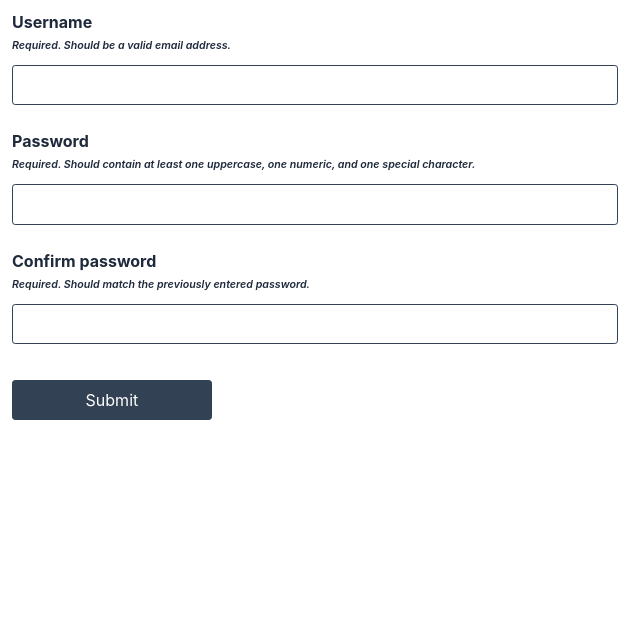
informs user of invalid fields on submit
The width and height of the screenshot is (635, 632).
Type "t" into the field labelled "Username" at (315, 85), box [12,65,618,105]
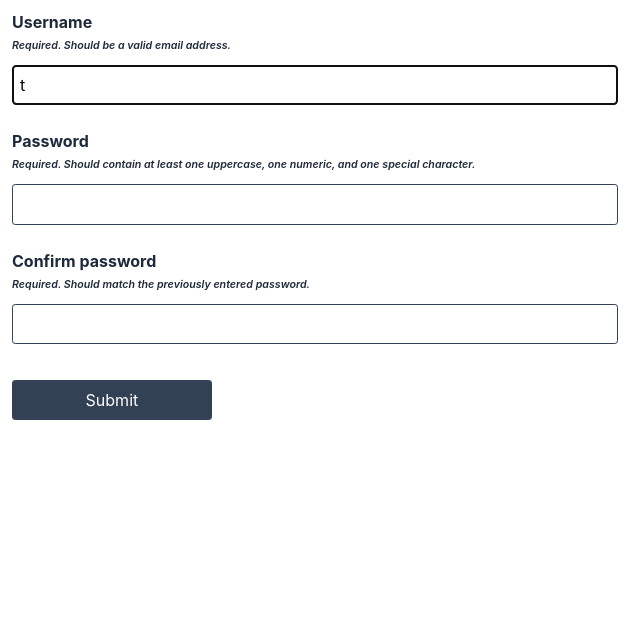
Type "t" into the password field labelled "Password" at (315, 204), box [12,184,618,225]
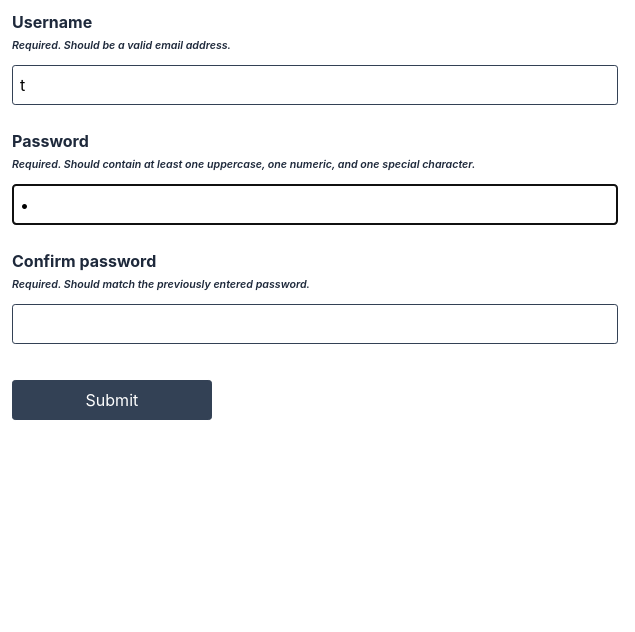
Type "e" into the password field labelled "Confirm password" at (315, 324), box [12,304,618,344]
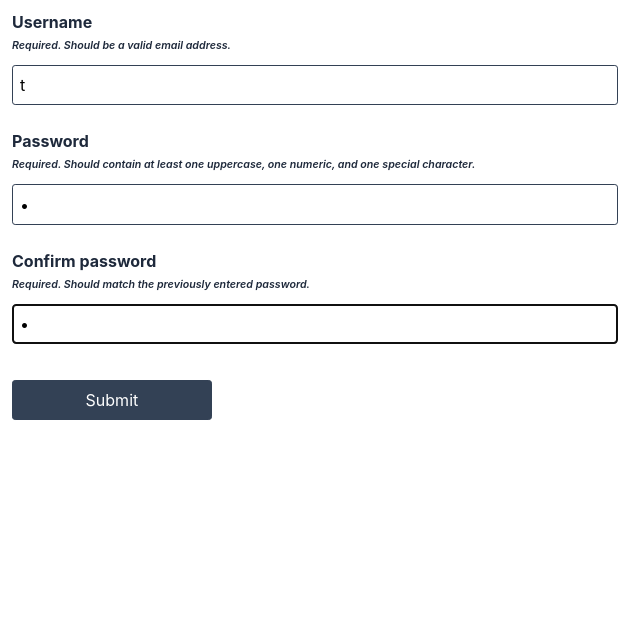
Click the button "Submit" at (112, 400), box [12,380,212,420]
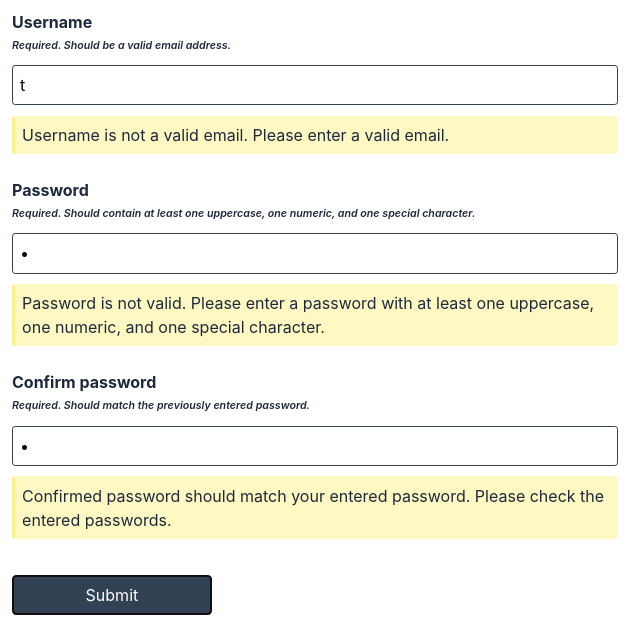
Expected: the text "Username is not a valid email. Please enter a valid email." is shown, [12,116,618,154]
Expected: the text "Password is not valid. Please enter a password with at least one uppercase, one numeric, and one special character." is shown, [22,293,594,337]
Expected: the text "Confirmed password should match your entered password. Please check the entered passwords." is shown, [22,486,604,530]
